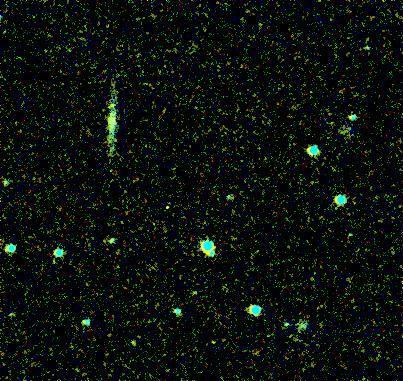star: (97, 91, 127, 121)
